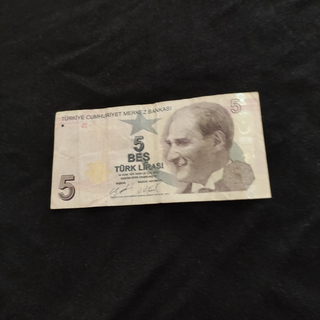5TLFront: (50, 91, 273, 210)
